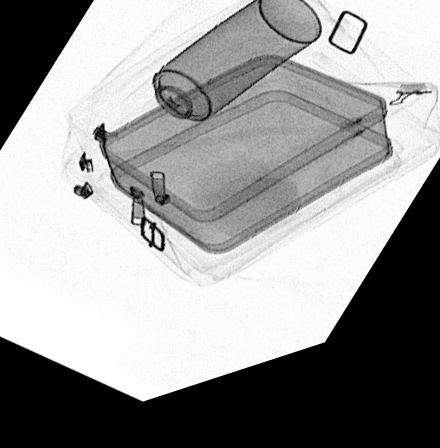Sprayer: (117, 4, 323, 162)
